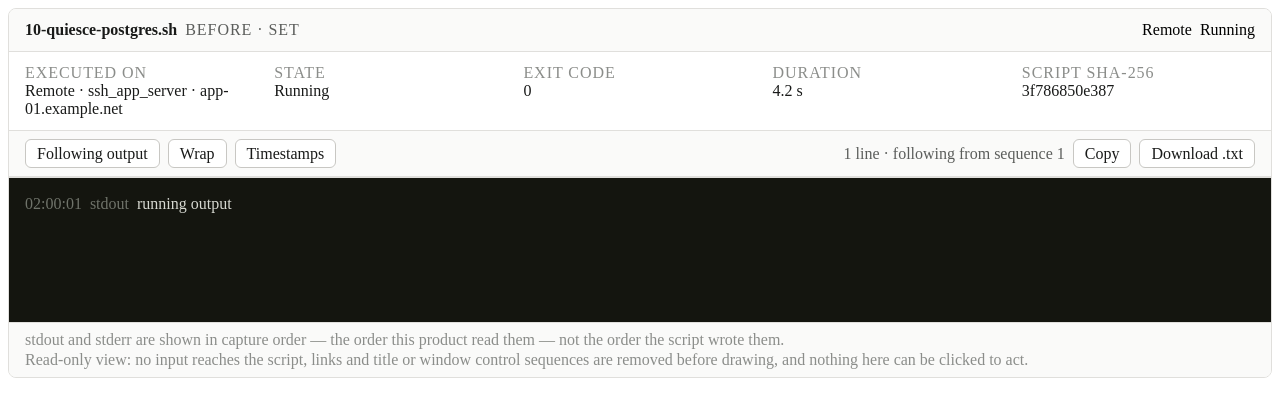
following, pausing and reconnecting › asks the engine to hold the read while following, and stops asking when paused
Expected: the text "running output" is shown, [137,190,232,218]
Click the button "Following output" at coordinates (92, 154), box [25,139,160,168]
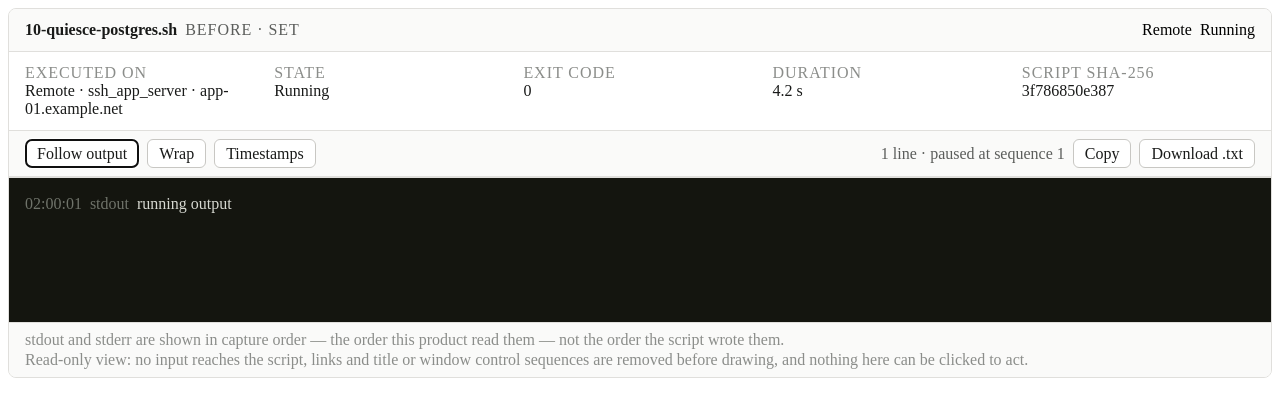
Expected: the text "1 line · paused at sequence 1" is shown, [881,144,1065,162]
